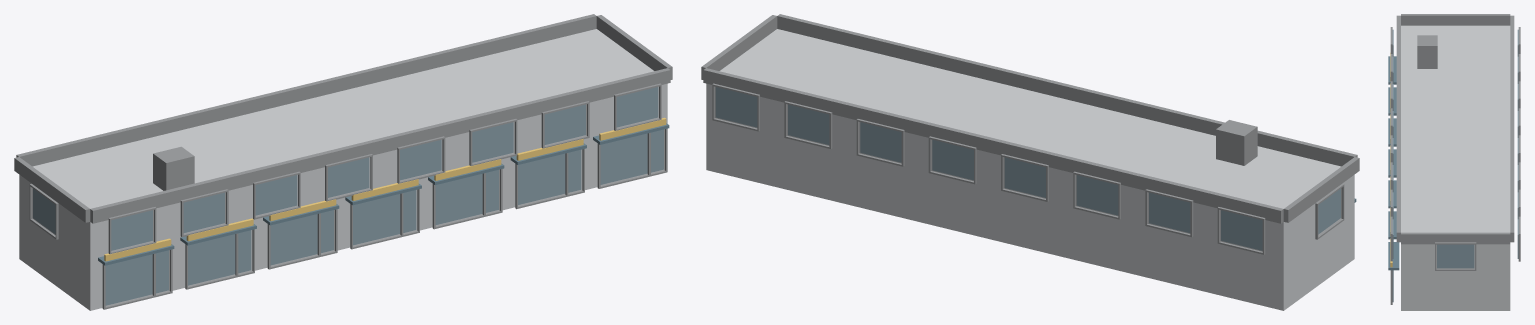
The model's file is commercial_4x1_a.glb.
3 views of the same model, side by side, from view 1: azimuth 30°, elevation 25°; view 2: azimuth 150°, elevation 25°; view 3: azimuth 270°, elevation 25° (orthographic). The views are drawn at different scales.
Parts seen in each view (by area): view 1: commercial_4x1_a_0; view 2: commercial_4x1_a_0; view 3: commercial_4x1_a_0.
Boxes of the visible parts, left/top/right/bottom form: commercial_4x1_a_0: left=14, top=14, right=672, bottom=310; commercial_4x1_a_0: left=701, top=14, right=1359, bottom=310; commercial_4x1_a_0: left=1388, top=14, right=1520, bottom=310.
Size of the model in its own units: 31.74 by 6 by 7.87.
